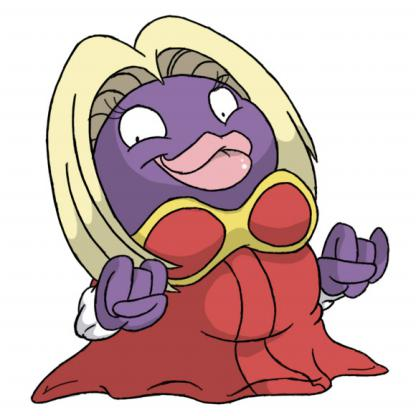Jynx: (1, 1, 370, 416)
